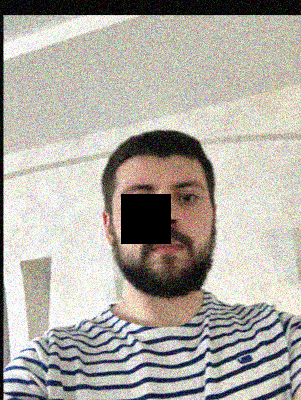without_mask: (117, 174, 216, 301)
